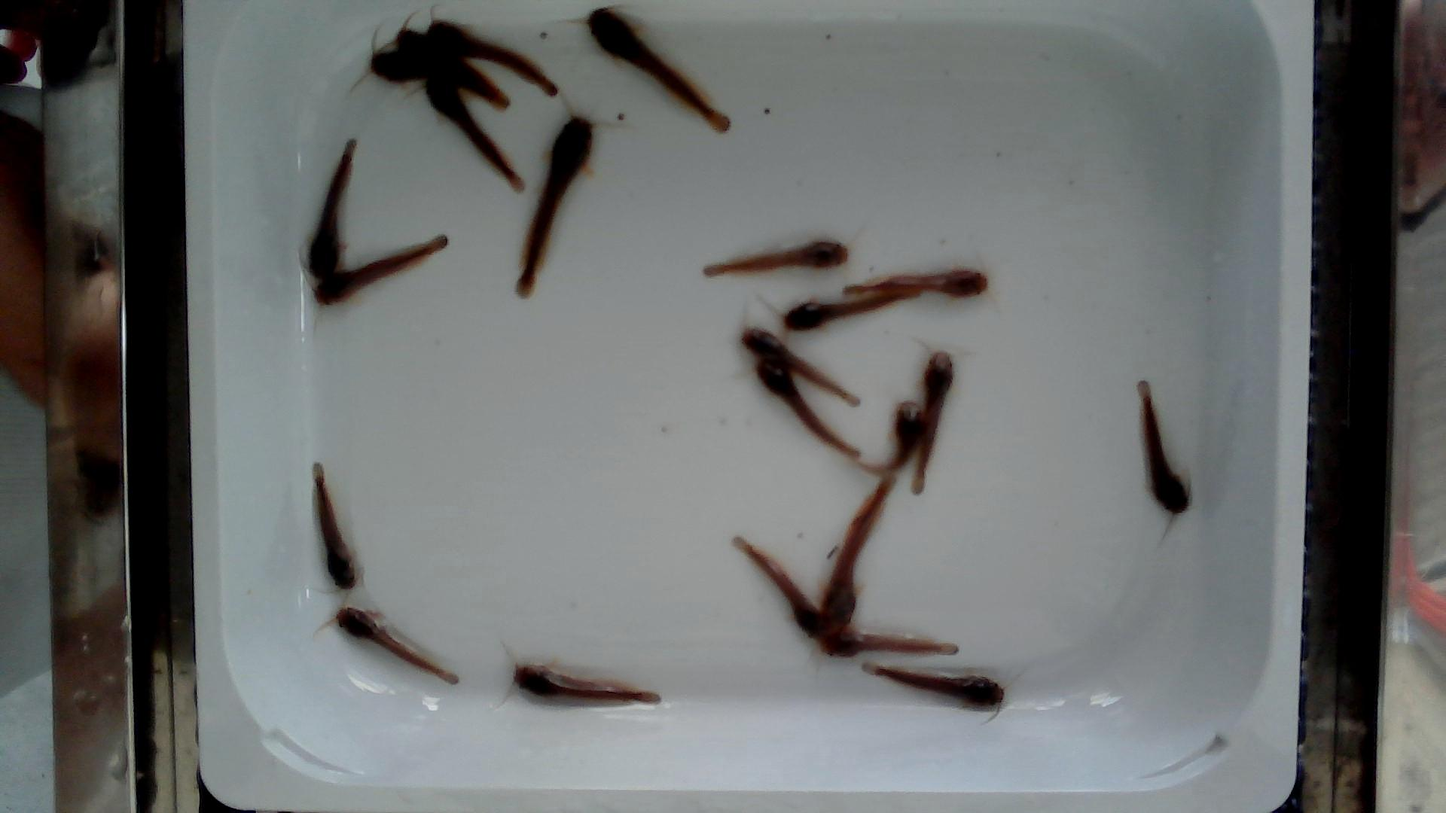lele: (586, 8, 728, 132), (517, 115, 593, 297), (822, 478, 893, 638), (426, 77, 522, 190), (314, 231, 448, 308), (759, 357, 860, 456), (732, 536, 827, 640), (427, 21, 556, 96), (743, 328, 862, 406), (334, 607, 457, 682), (397, 29, 510, 109), (307, 140, 356, 281), (862, 662, 1002, 710), (1138, 381, 1188, 514), (786, 290, 926, 333), (514, 663, 660, 703), (911, 352, 952, 494), (313, 464, 356, 589), (703, 239, 847, 276), (844, 267, 988, 300), (370, 51, 476, 93), (862, 400, 921, 474), (820, 629, 957, 659)
